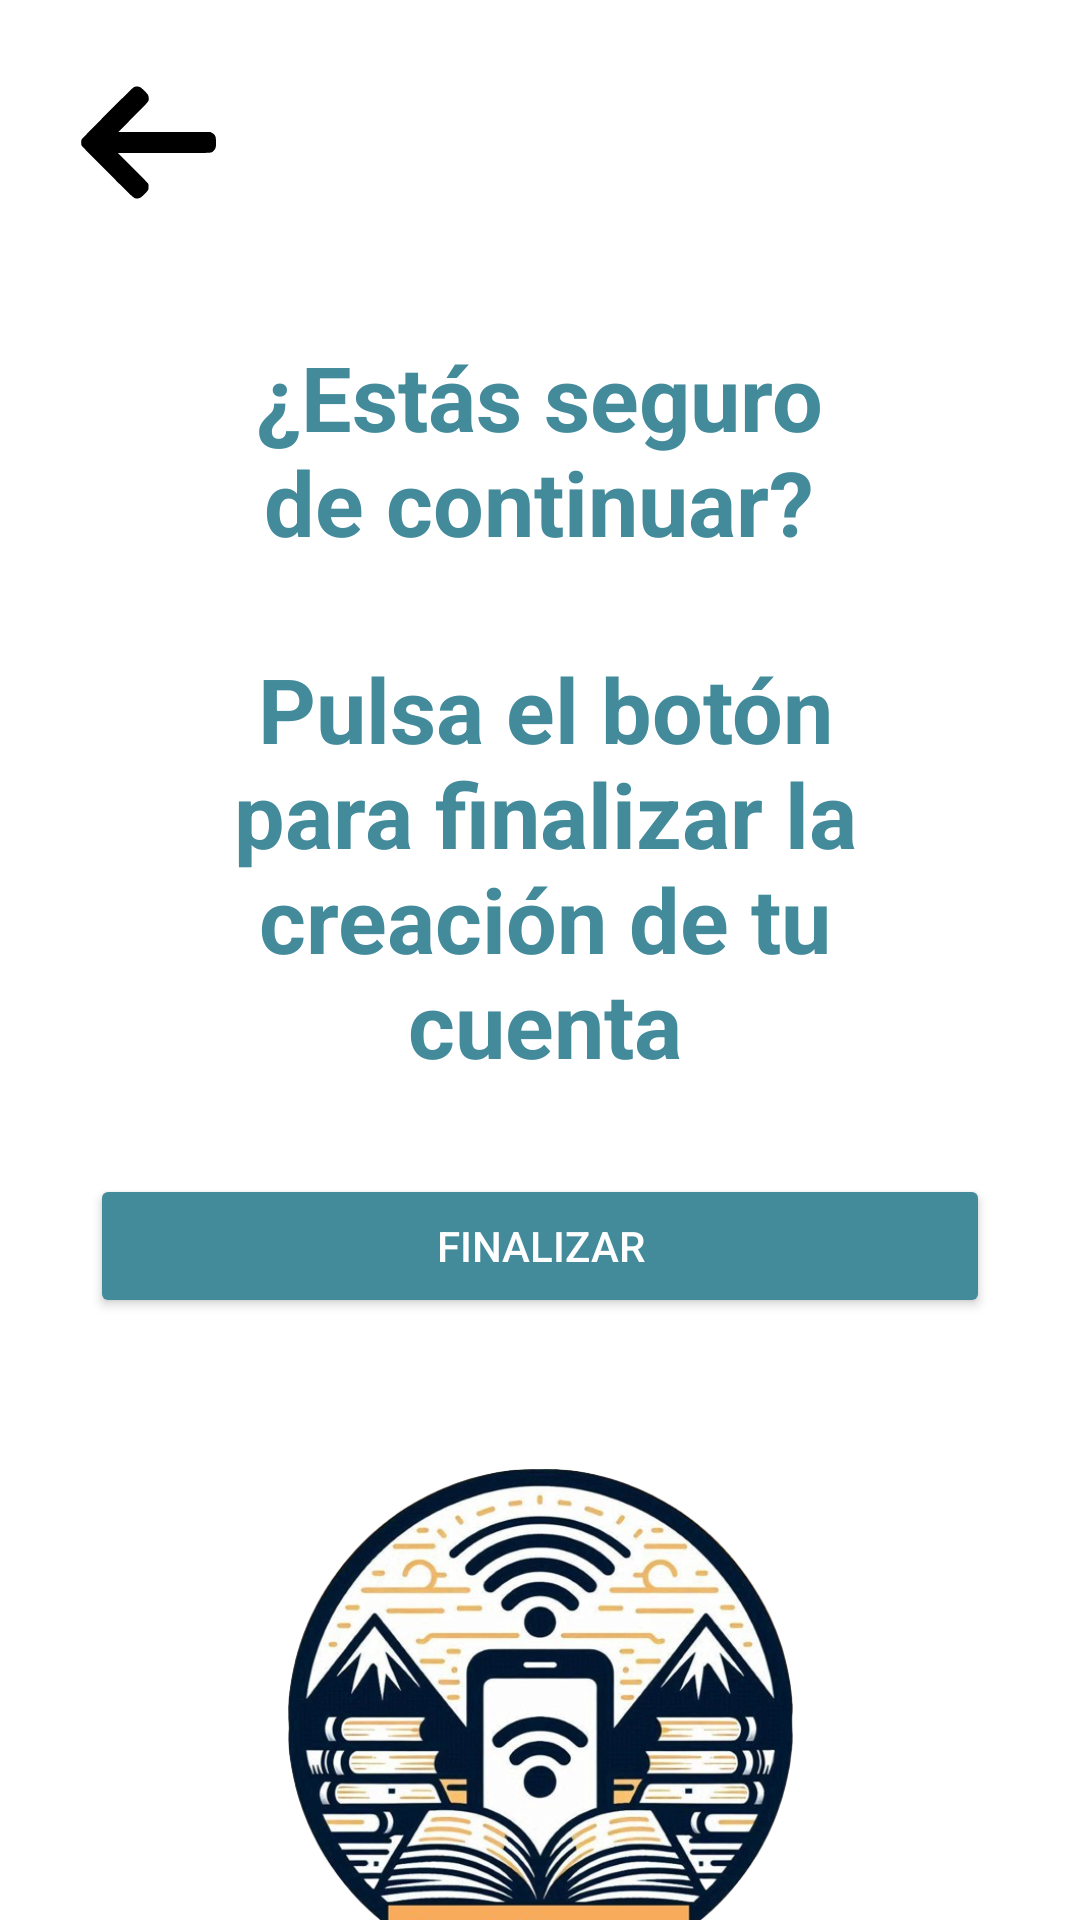

Screen size 1080×1920. Icon name, then its box in pixels as region(x1, y1, x2, y2):
back: region(81, 86, 216, 199)
